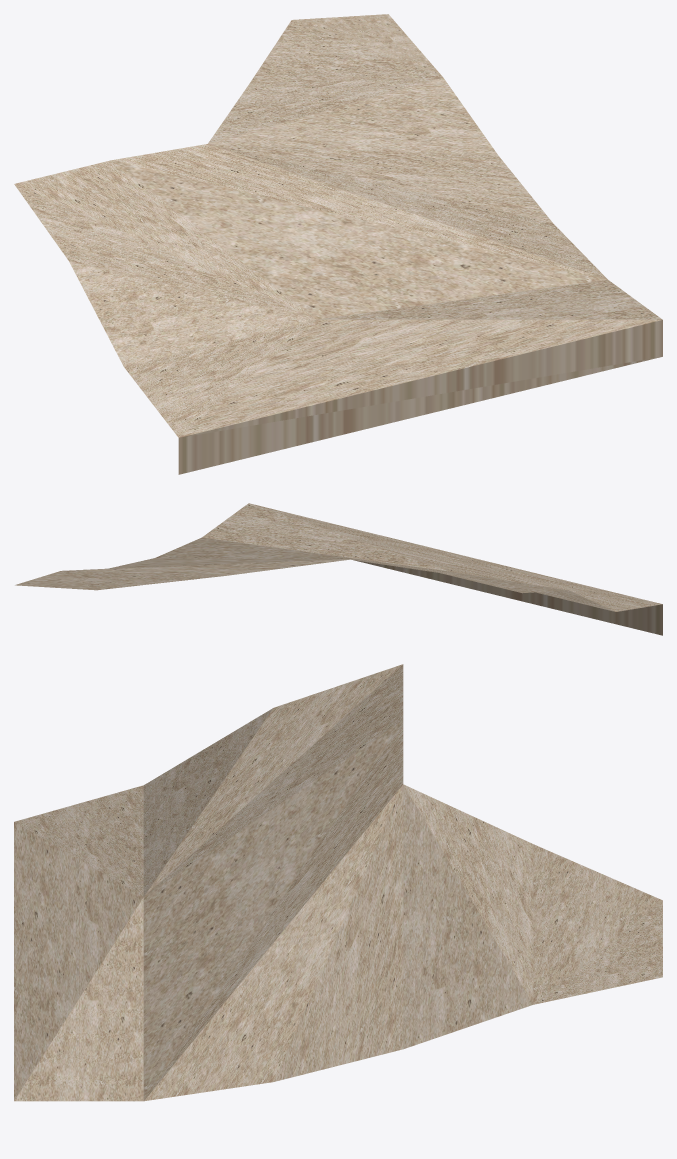
The model's file is lodseabed063.obj.
3 renders of one model, top to bottom at view 1: azimuth 30°, elevation 25°; view 2: azimuth 150°, elevation 25°; view 3: azimuth 270°, elevation 25°, orthographic. The views are drawn at different scales.
Visible parts, largest first — view 1: lodseabed063; view 2: lodseabed063; view 3: lodseabed063.
Part boxes in pixels (x1=…): lodseabed063: x1=14, y1=14, x2=662, y2=474; lodseabed063: x1=15, y1=503, x2=662, y2=635; lodseabed063: x1=14, y1=664, x2=662, y2=1101.
Bounding box in the file's own units: 229 × 76.92 × 225.
